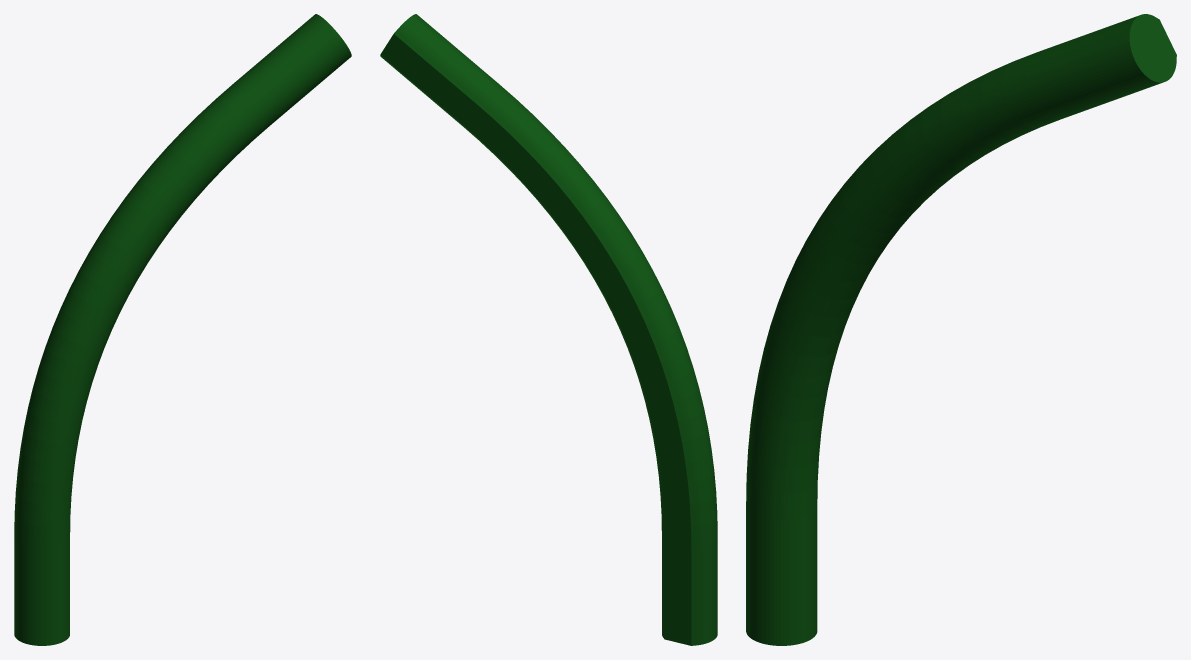
The model's file is stem_3B_60_R.glb.
3 views of the same model, side by side, from view 1: azimuth 30°, elevation 25°; view 2: azimuth 150°, elevation 25°; view 3: azimuth 330°, elevation 25° (orthographic). The views are drawn at different scales.
Parts seen in each view (by area): view 1: stem_3B_60_R; view 2: stem_3B_60_R; view 3: stem_3B_60_R.
Boxes of the visible parts, left/top/right/bottom form: stem_3B_60_R: left=14, top=14, right=351, bottom=645; stem_3B_60_R: left=380, top=14, right=717, bottom=645; stem_3B_60_R: left=746, top=14, right=1176, bottom=645.
Size of the model in its own units: 0.0487 by 0.0781 by 0.00666.
